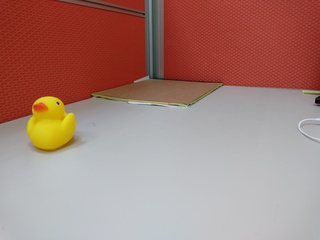duck: (22, 91, 81, 156)
